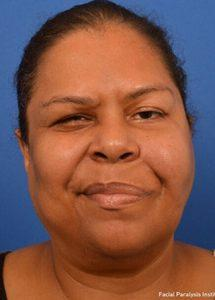strokeEyeMid: (39, 81, 176, 137)
strokeMouthMid: (56, 171, 168, 213)
